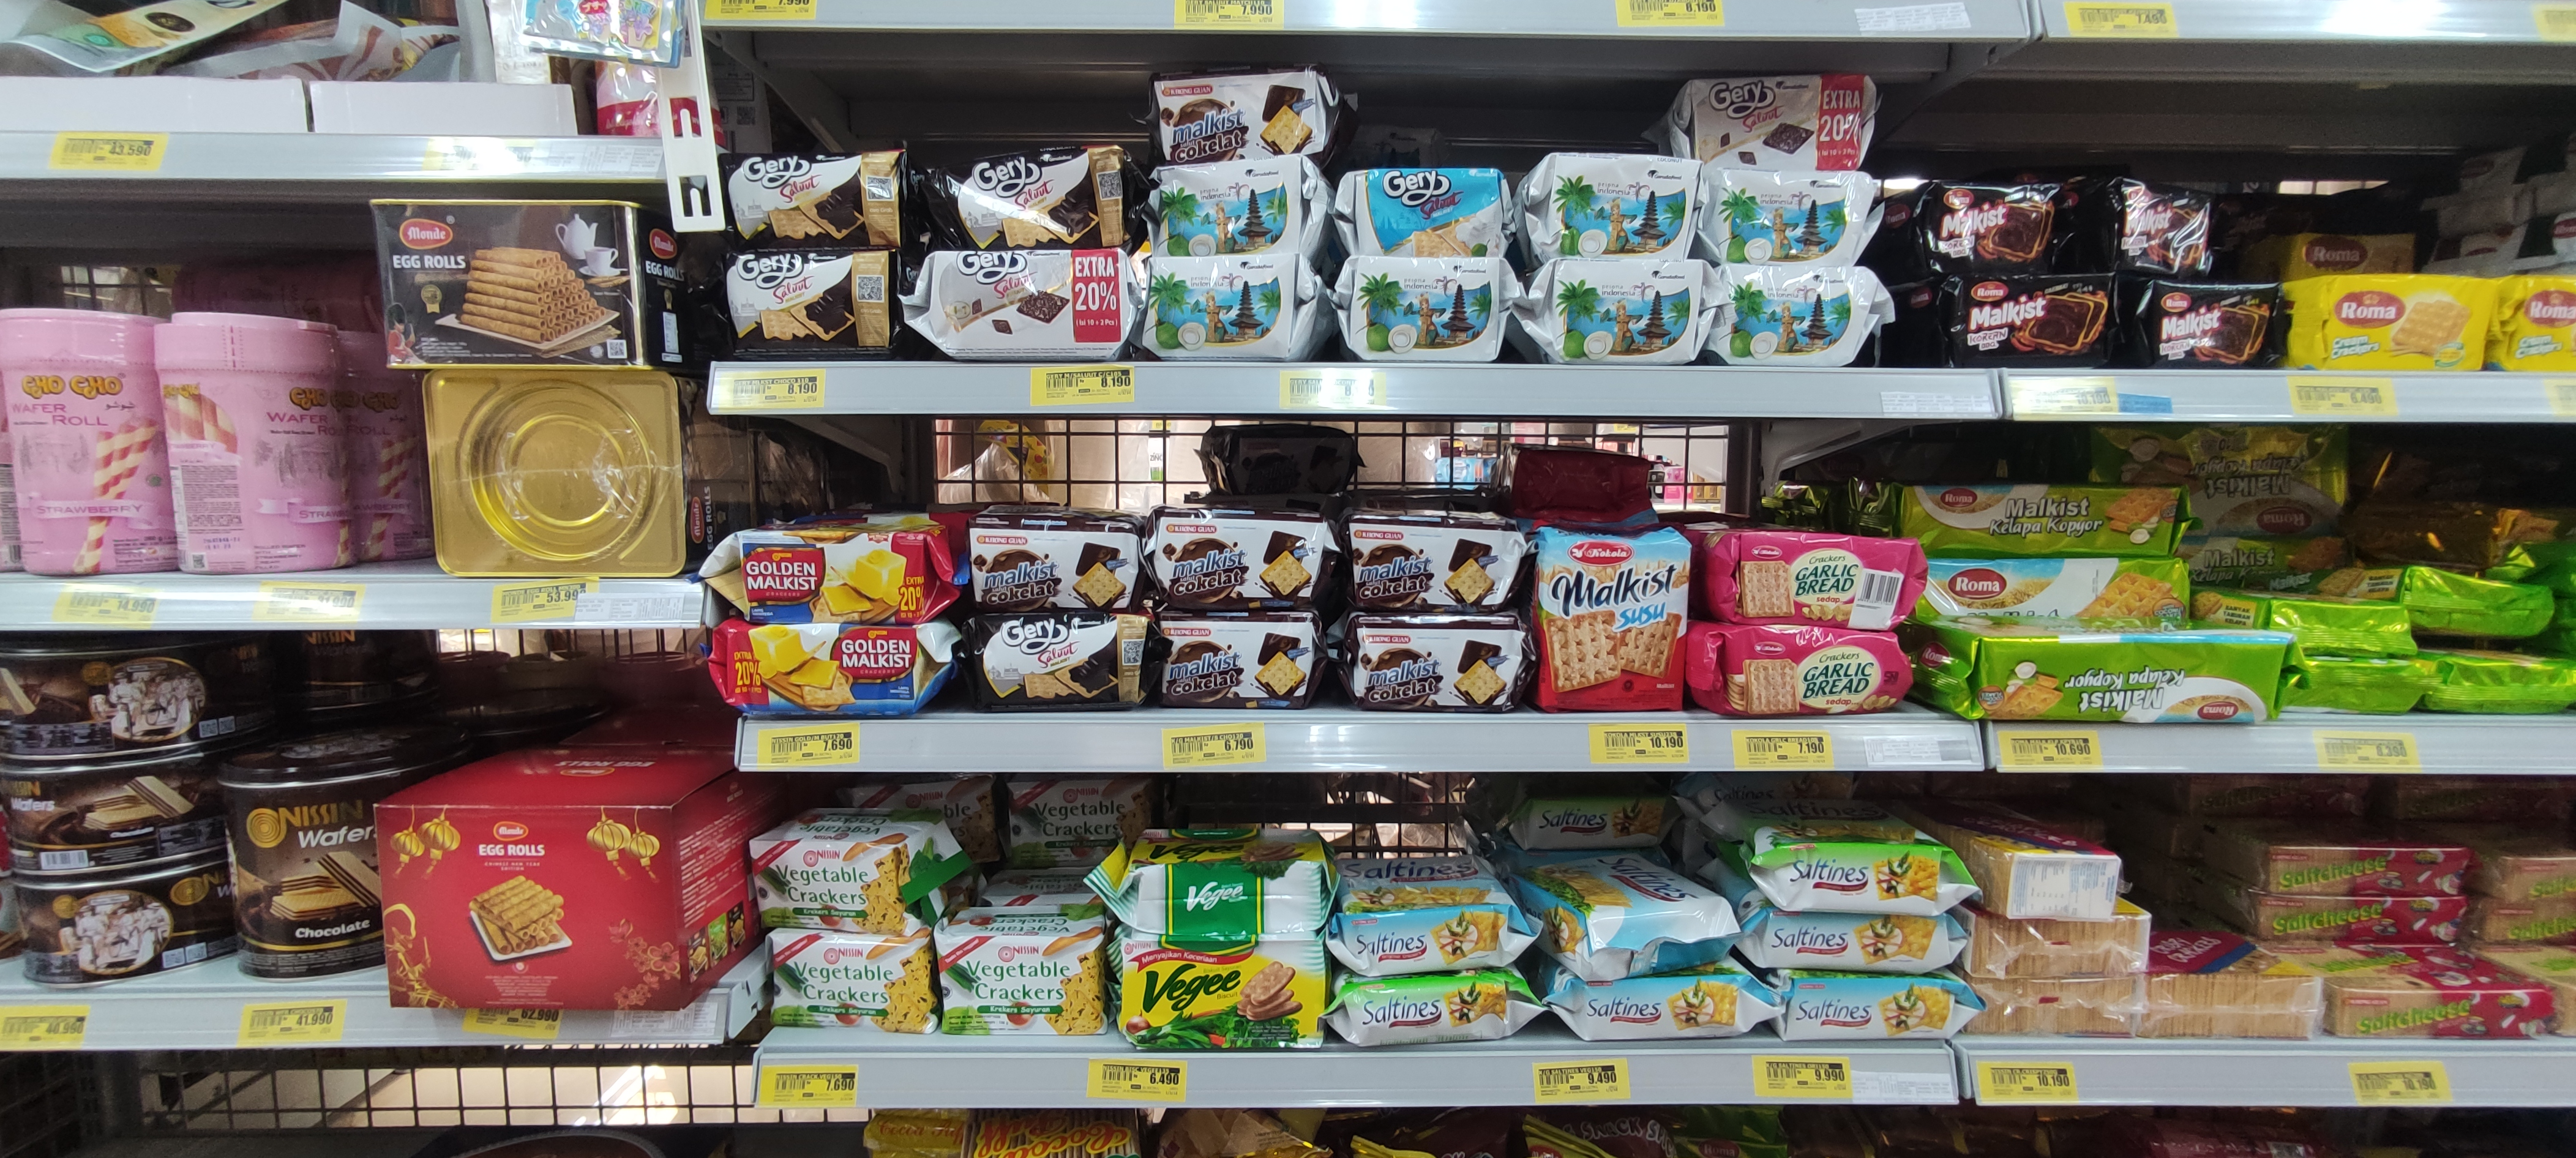90101225202100: (920, 146, 1127, 246), (724, 146, 900, 248), (726, 250, 895, 348), (969, 614, 1150, 706)
90101225209100: (1548, 258, 1702, 365), (1344, 258, 1503, 360), (1536, 159, 1697, 260), (1710, 266, 1871, 366), (1707, 168, 1865, 263), (1145, 255, 1296, 353), (1155, 159, 1304, 256), (1357, 169, 1505, 256)
90101225218101: (928, 250, 1125, 352), (1690, 76, 1866, 169)
ChoChoWaferRoll: (0, 309, 177, 570)
KhongGuanMalkistSalutCokelat: (1152, 71, 1324, 161), (1349, 524, 1521, 614), (1350, 619, 1523, 710), (1155, 516, 1327, 606), (1157, 618, 1314, 708), (969, 527, 1135, 608)
KhongGuanSaltcheeseCrackers: (2259, 895, 2464, 944), (2267, 848, 2471, 897), (2341, 990, 2551, 1036)
KokolaCrackersGarlicBread: (1707, 529, 1920, 623), (1700, 624, 1912, 715)
KokolaMalkistSusu: (1539, 529, 1684, 713)
MondeEggRolls: (371, 200, 639, 368)
MondeEggRollsChineseNewYearPackage: (378, 805, 682, 1012)
NissinGoldenMalkist: (724, 624, 920, 713), (738, 534, 928, 624)
NissinVegeeBiscuit: (1122, 938, 1324, 1048), (1122, 862, 1324, 933)
NissinVegetableCrackers: (936, 935, 1107, 1035), (769, 935, 935, 1033), (752, 839, 907, 933)
RomaMalkistCokelat: (1924, 179, 2095, 273), (1948, 276, 2116, 366), (2152, 286, 2284, 370)
RomaMalkistCreamCrackers: (2311, 274, 2486, 370)
RomaMalkistKelapaKopyor: (1970, 639, 2280, 721), (1902, 486, 2180, 557)
SaltinesOriginalCrackers: (1342, 905, 1507, 971), (1755, 915, 1947, 971), (1580, 979, 1751, 1040), (1789, 981, 1957, 1041)
SaltinesVegetableCrackers: (1342, 977, 1513, 1043), (1773, 844, 1943, 910)
